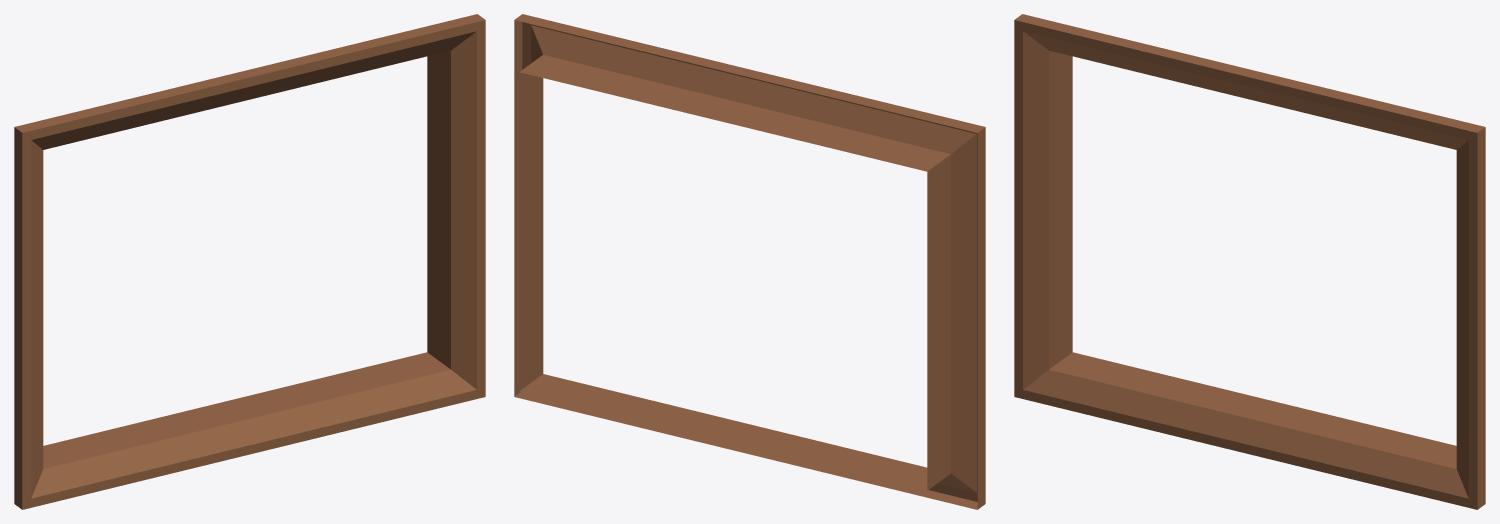
File: DBK_WinWide_Trim_C_Full.fbx
The picture shows the model from 3 angles, left to right: view 1: azimuth 30°, elevation 25°; view 2: azimuth 150°, elevation 25°; view 3: azimuth 330°, elevation 25°; orthographic projection.
Visible parts, largest first — view 1: DBK_WinWide_Trim_C_Full; view 2: DBK_WinWide_Trim_C_Full; view 3: DBK_WinWide_Trim_C_Full.
Part boxes in pixels (<box>): DBK_WinWide_Trim_C_Full: <box>14,14,485,509</box>; DBK_WinWide_Trim_C_Full: <box>514,14,985,509</box>; DBK_WinWide_Trim_C_Full: <box>1014,14,1485,509</box>.
Bounding box in the file's own units: 180 × 140 × 20.75.
